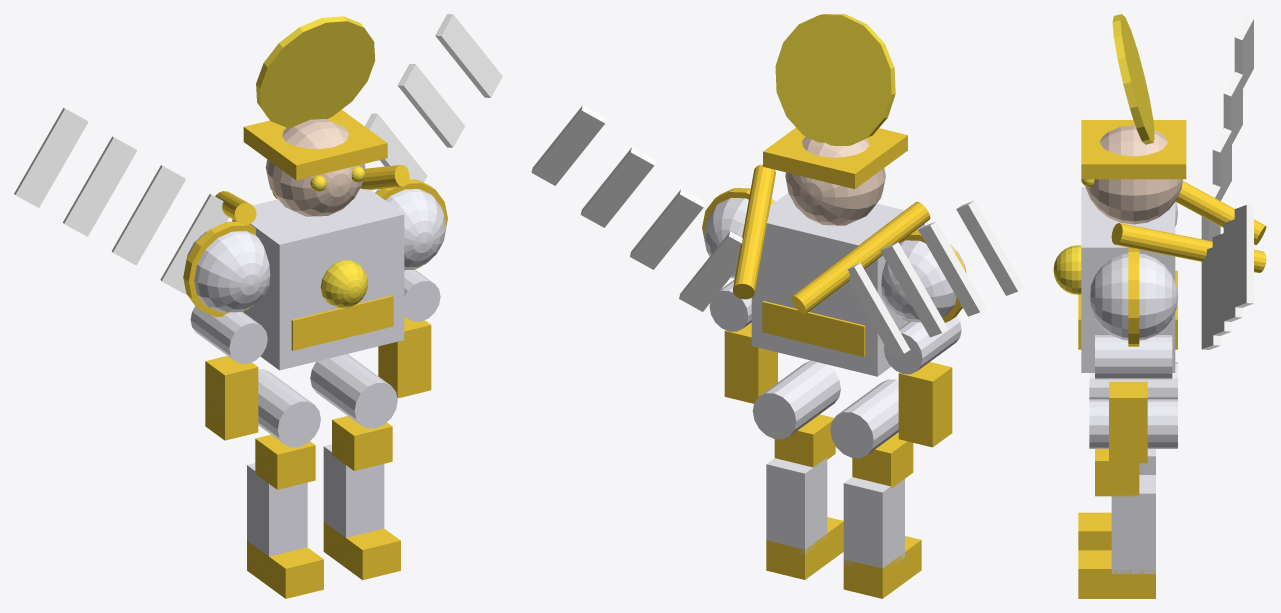
Rendered from angel.obj.
The picture shows the model from 3 angles, left to right: view 1: azimuth 30°, elevation 25°; view 2: azimuth 150°, elevation 25°; view 3: azimuth 270°, elevation 25°; orthographic projection.
Visible parts, largest first — view 1: Chest_Plate, Halo_Ring, Pauldron_L, Diadem, Head_Face, Greave_R, Greave_L, Thigh_R, Gauntlet_L, Thigh_L, Gold_Ribs, Gauntlet_R (+19 smaller); view 2: Chest_Plate, Halo_Ring, Greave_R, Greave_L, Diadem, Head_Face, Thigh_R, Gauntlet_L, Thigh_L, Wing_Bone_L, Gold_Ribs, Gauntlet_R (+17 smaller); view 3: Pauldron_R, Chest_Plate, Head_Face, Diadem, Greave_R, Arm_R, Gauntlet_R, Foot_R, Halo_Ring, Thigh_R, Wing_Bone_R, Feather_R_3 (+15 smaller).
Boxes of the visible parts, x1,y1,x2,y2 form: Chest_Plate: (232,188,404,370); Halo_Ring: (256,16,375,127); Pauldron_L: (186,231,270,312); Diadem: (243,109,387,180); Head_Face: (265,119,365,216); Greave_R: (323,444,384,537); Greave_L: (247,463,307,556); Thigh_R: (310,354,397,428); Gauntlet_L: (205,356,258,440); Thigh_L: (258,369,320,447); Gold_Ribs: (291,295,393,350); Gauntlet_R: (378,316,431,398); Chest_Plate: (751,193,924,376); Halo_Ring: (775,14,895,145); Greave_R: (766,458,827,554); Greave_L: (843,477,904,568); Diadem: (763,127,907,188); Head_Face: (785,136,885,225); Thigh_R: (752,360,840,439); Gauntlet_L: (898,362,952,447); Thigh_L: (830,379,898,458); Wing_Bone_L: (791,201,930,314); Gold_Ribs: (762,301,865,356); Gauntlet_R: (724,322,777,403); Pauldron_R: (1089,253,1177,340); Chest_Plate: (1081,187,1175,372); Head_Face: (1085,125,1182,224); Diadem: (1081,120,1186,179); Greave_R: (1111,475,1155,573); Arm_R: (1095,335,1172,379); Gauntlet_R: (1109,381,1147,463); Foot_R: (1078,550,1155,598); Halo_Ring: (1112,14,1154,144); Thigh_R: (1089,399,1177,448); Wing_Bone_R: (1111,223,1266,272); Feather_R_3: (1234,205,1253,307).
Size of the model in its own units: 2.03 by 2.2 by 0.7698.
